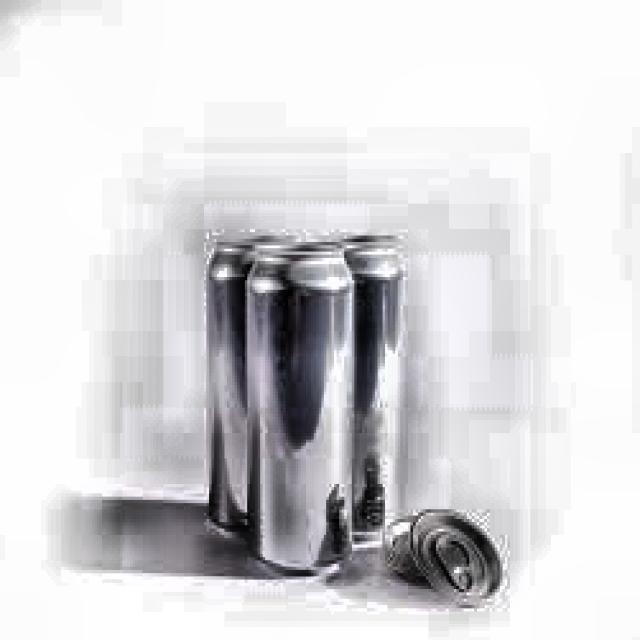can: (246, 242, 352, 586), (203, 232, 302, 540), (334, 231, 406, 547), (377, 511, 508, 604)
